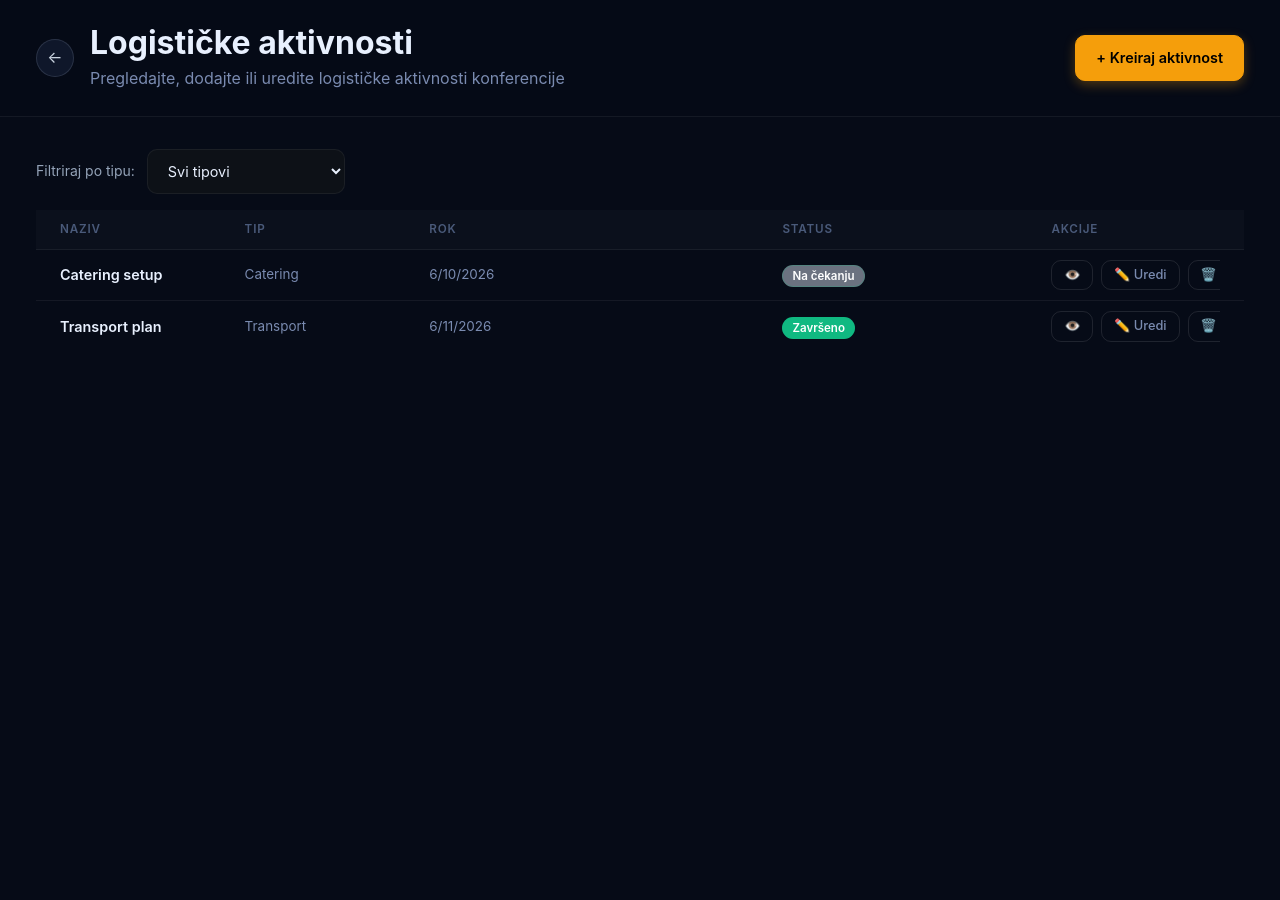
Test: LogisticsPage › dugme za detalje otvara modal sa nazivom, opisom, tipom, statusom i rokom
Check: the text "Catering setup" is shown, box [60,266,163,283]
Click the button titled "Pogledaj detalje" in the row of "Na čekanju".
click(1072, 275)  # box [1051,260,1093,290]
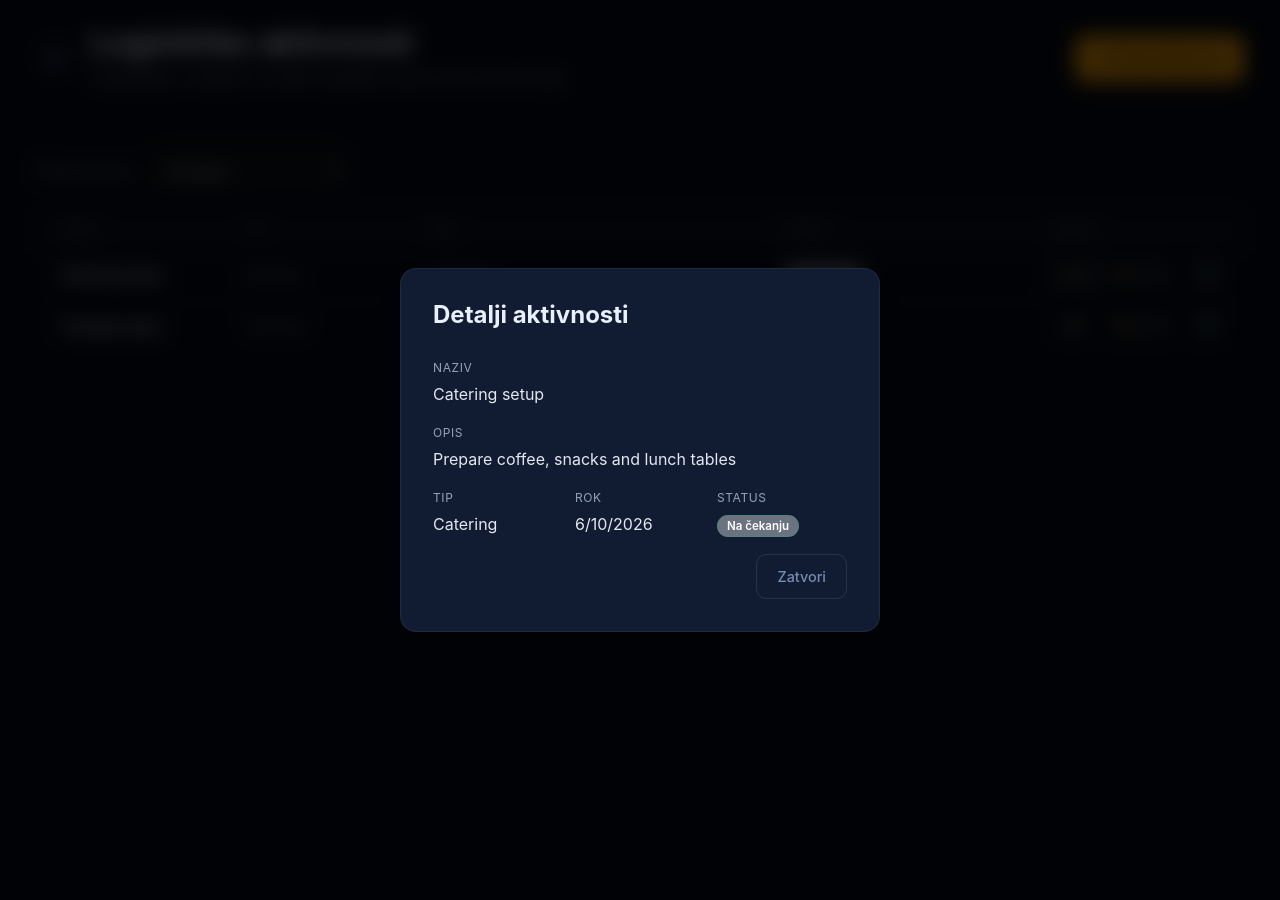
Check: the text "Detalji aktivnosti" is shown, box [433,300,629,329]
Check: the text "Catering setup" is shown, box [433,384,544,404]
Check: the text "Prepare coffee, snacks and lunch tables" is shown, box [433,449,736,469]
